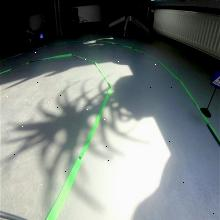crosswalk: (210, 69, 220, 89)
